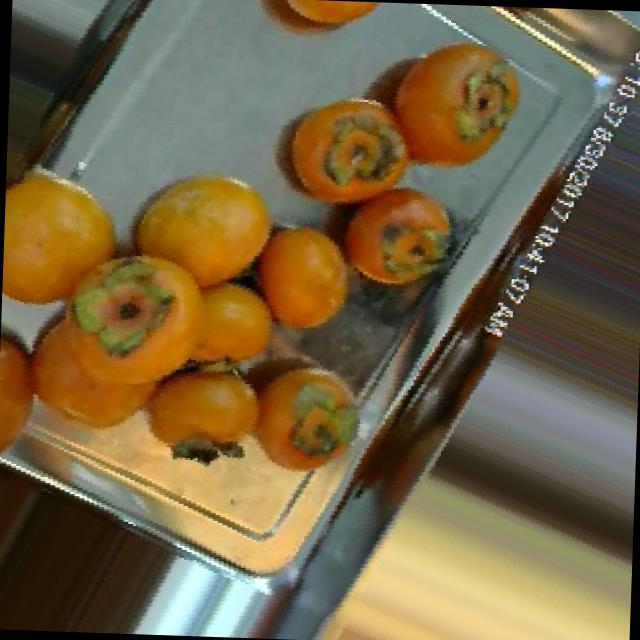Fruit: (324, 10, 546, 204), (234, 75, 440, 236), (104, 151, 296, 311), (0, 152, 139, 337), (310, 165, 482, 314), (222, 198, 374, 348), (235, 0, 393, 58)
